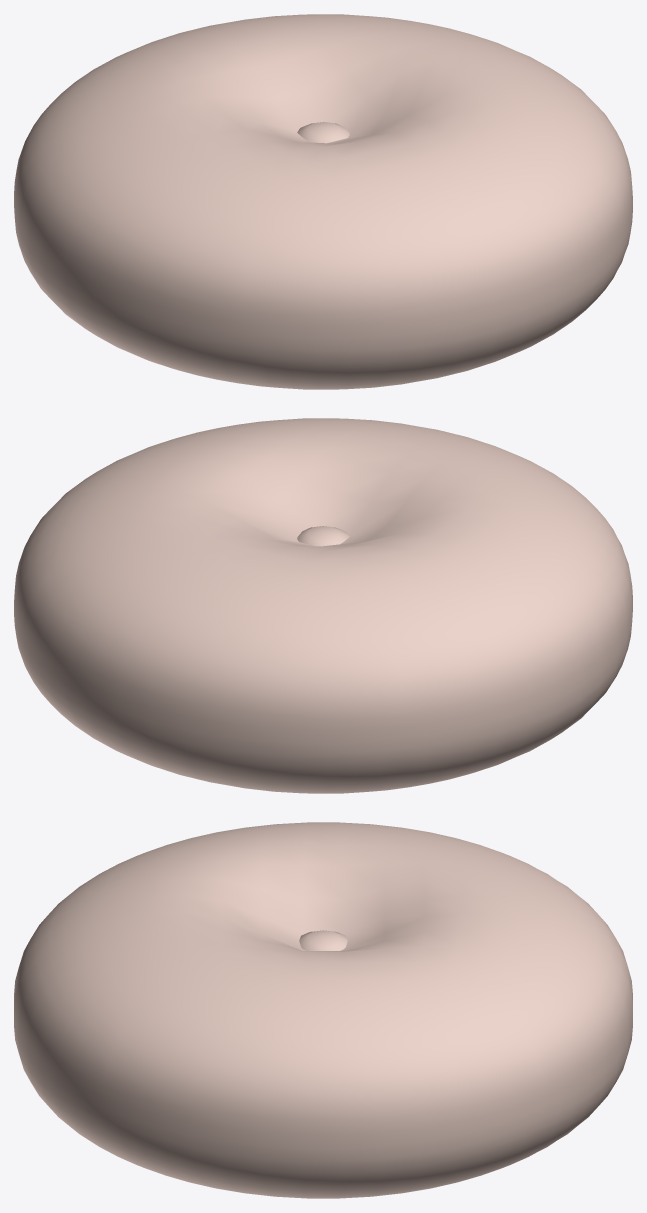
File: Pillow_Round.fbx
3 renders of one model, top to bottom at view 1: azimuth 30°, elevation 25°; view 2: azimuth 150°, elevation 25°; view 3: azimuth 270°, elevation 25°, orthographic.
Visible parts, largest first — view 1: Pillow_Round; view 2: Pillow_Round; view 3: Pillow_Round.
Boxes of the visible parts, x1=… form: Pillow_Round: x1=14, y1=14, x2=632, y2=389; Pillow_Round: x1=14, y1=418, x2=632, y2=793; Pillow_Round: x1=14, y1=822, x2=632, y2=1198.
Size of the model in its own units: 0.3591 by 0.143 by 0.3591.
